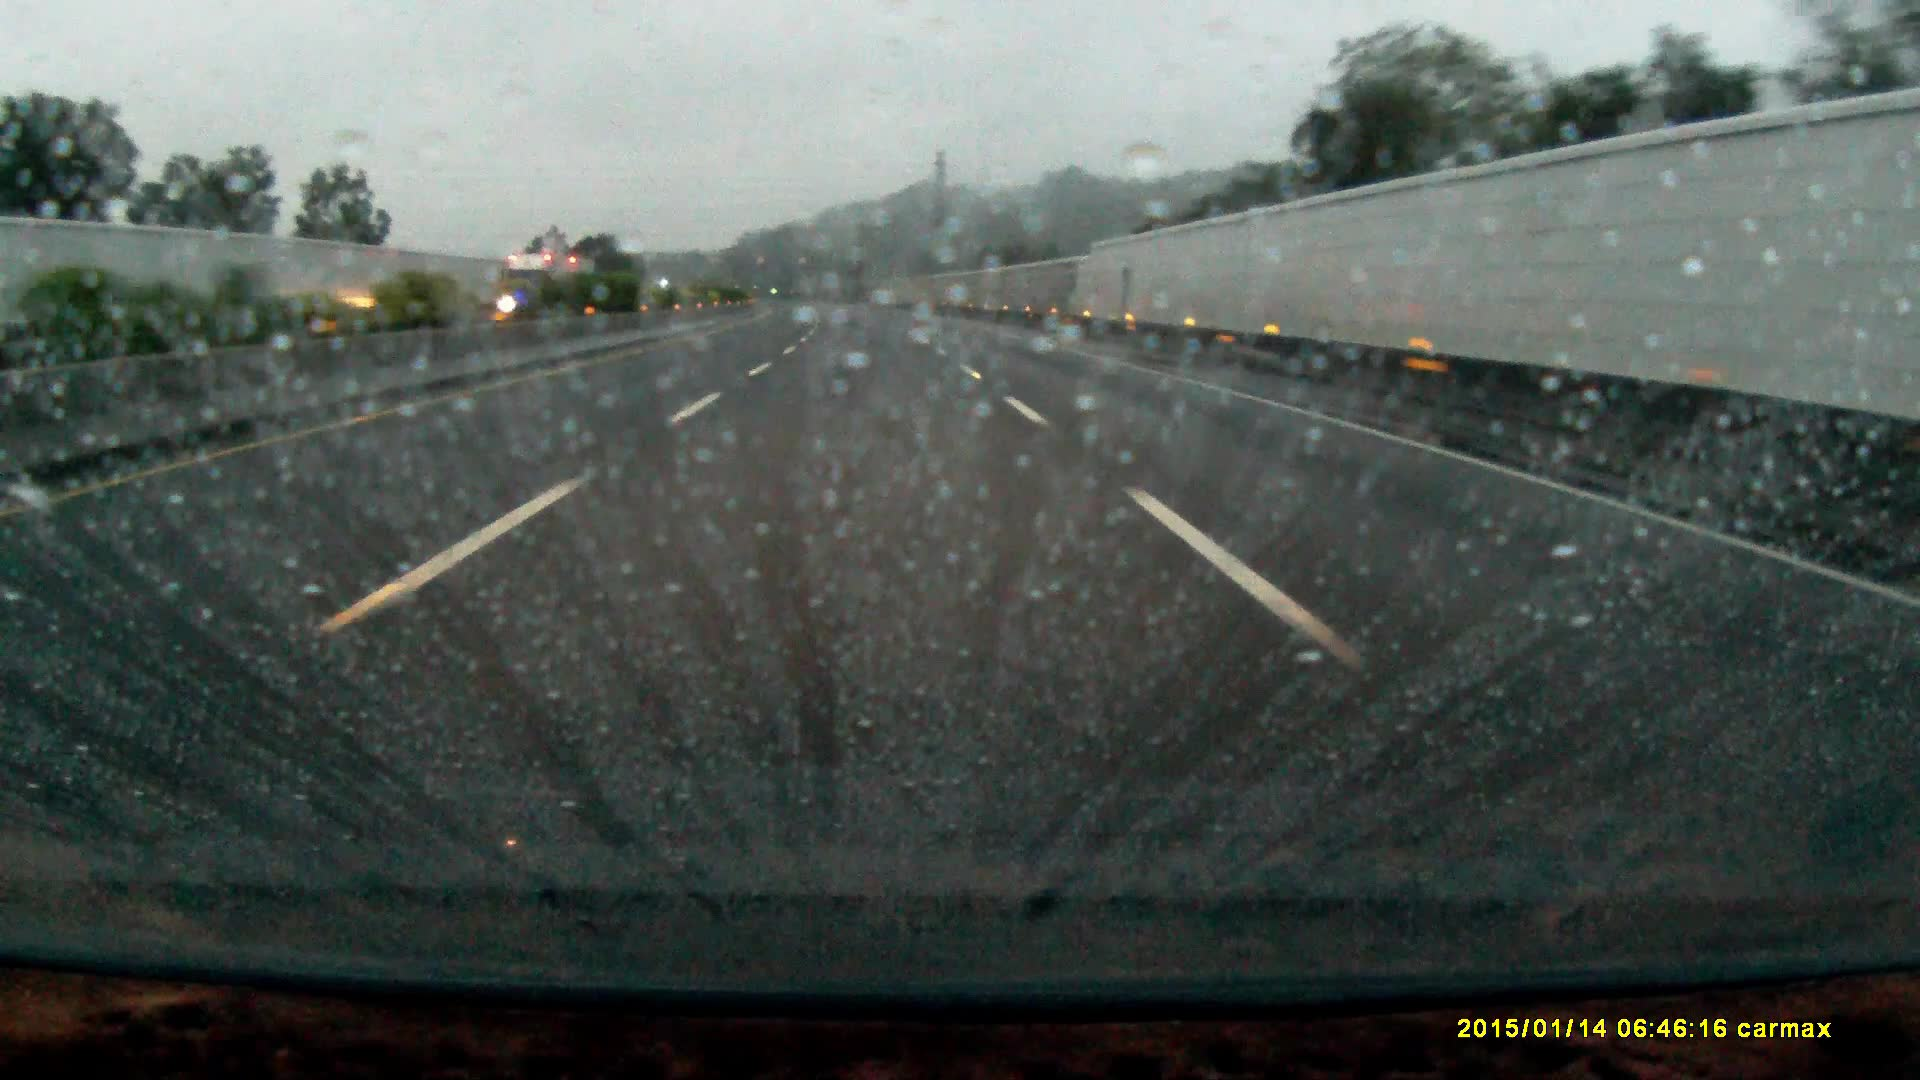vehicle: (498, 253, 593, 313)
